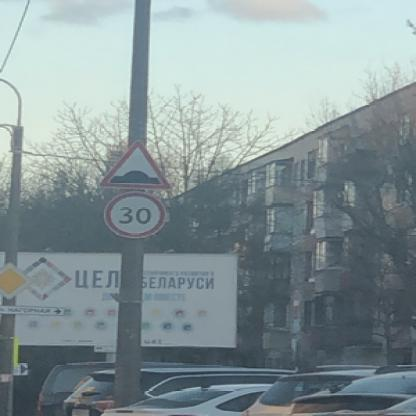speedlimit: (102, 190, 164, 236)
